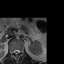CCS_normal: (15, 47, 17, 56)
LFS_normal: (19, 48, 21, 54)
LLS_normal: (17, 47, 20, 54)
RFS_normal: (11, 48, 13, 55)
RLS_normal: (13, 48, 15, 55)
